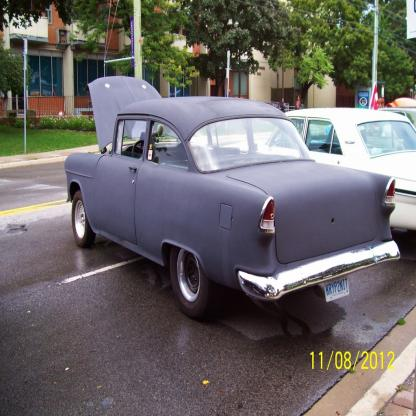Car: (67, 75, 401, 320), (227, 107, 416, 233)
